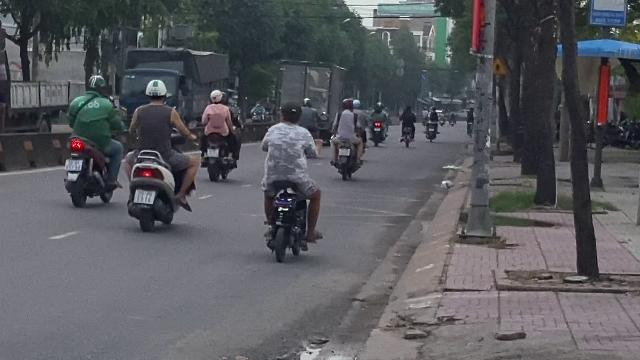helmet: (144, 79, 168, 103), (85, 74, 106, 92)
licenseplate: (134, 189, 154, 203), (64, 160, 82, 170)
motorcyclist: (255, 97, 325, 262), (122, 79, 196, 232), (61, 73, 123, 207)
nohelmet: (278, 100, 302, 124)
